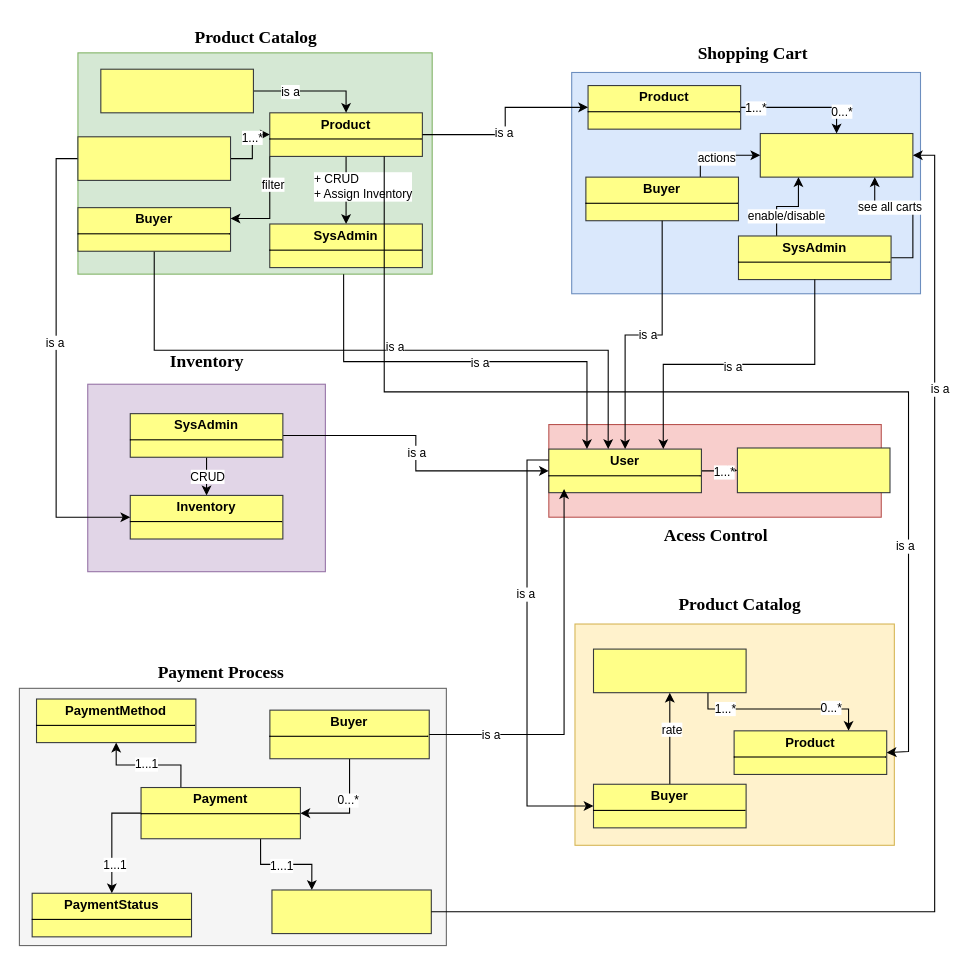
Some shapes in this 968 by 965 pixel diagram are drawn without their labels. Here are the shapes that lost their labels. From the top down, the box of each, then its label:
(100, 68, 253, 113): Hot Product
(77, 136, 231, 180): Inventory Info
(759, 132, 913, 177): Cart
(736, 447, 890, 493): Role
(592, 648, 746, 693): Rating
(271, 889, 431, 934): Cart Info
